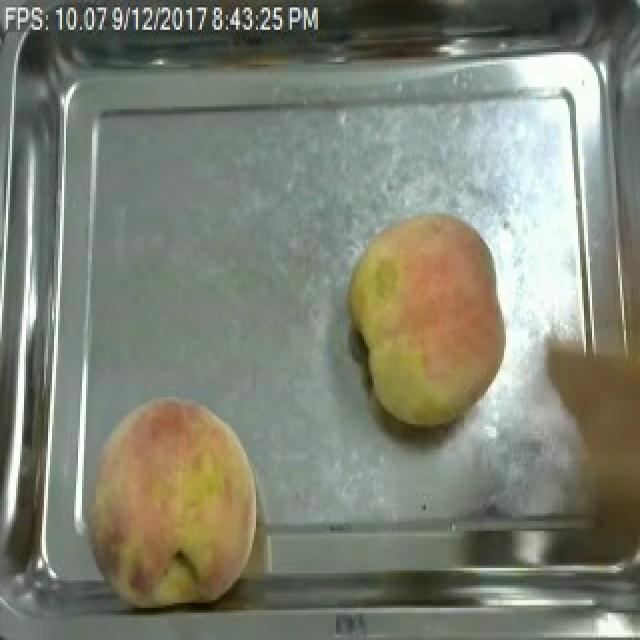Fruit: (78, 387, 266, 608), (342, 206, 514, 434)
